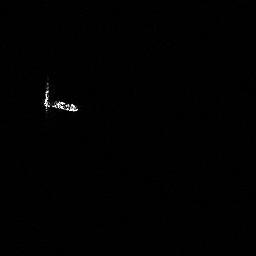ship: (42, 80, 80, 113)
